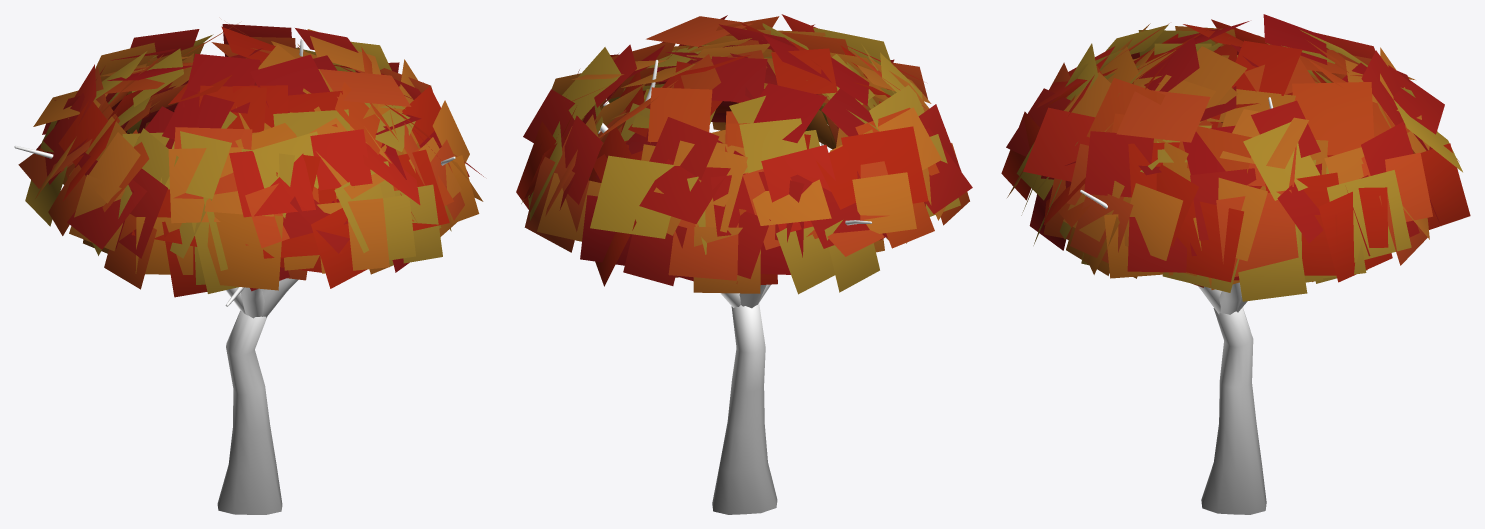
Rendered from maple_2.glb.
The picture shows the model from 3 angles, left to right: view 1: azimuth 30°, elevation 25°; view 2: azimuth 150°, elevation 25°; view 3: azimuth 270°, elevation 25°; orthographic projection.
Parts seen in each view (by area): view 1: maple_37; view 2: maple_37; view 3: maple_37.
Part boxes in pixels (x1=…): maple_37: x1=14, y1=24, x2=483, y2=514; maple_37: x1=516, y1=14, x2=972, y2=514; maple_37: x1=1001, y1=14, x2=1470, y2=514.
Bounding box in the file's own units: 6.29 × 6.95 × 6.43.
